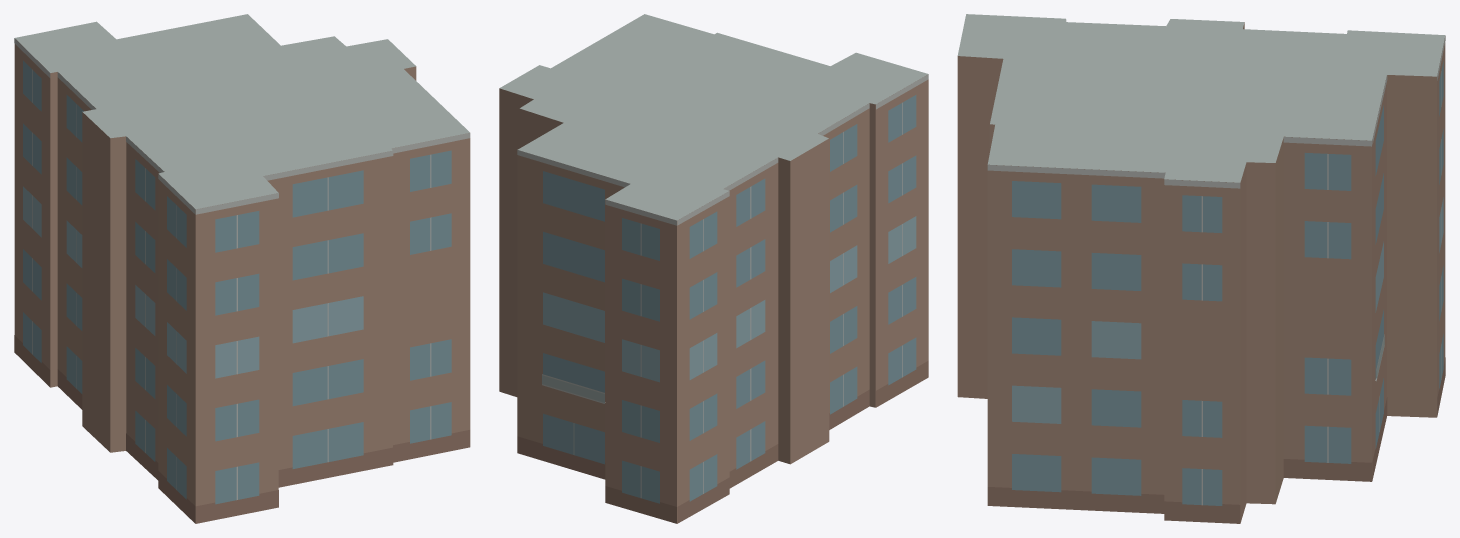
File: survey-upis-32946646.glb
3 renders of one model, left to right at view 1: azimuth 30°, elevation 25°; view 2: azimuth 150°, elevation 25°; view 3: azimuth 270°, elevation 25°, orthographic. The views are drawn at different scales.
Visible parts, largest first — view 1: survey-upis-32946646.tmp; view 2: survey-upis-32946646.tmp; view 3: survey-upis-32946646.tmp.
Part boxes in pixels (<box>): survey-upis-32946646.tmp: <box>14,14,470,523</box>; survey-upis-32946646.tmp: <box>499,14,928,523</box>; survey-upis-32946646.tmp: <box>957,14,1445,523</box>.
Size of the model in its own units: 15.07 by 14.2 by 18.41.
